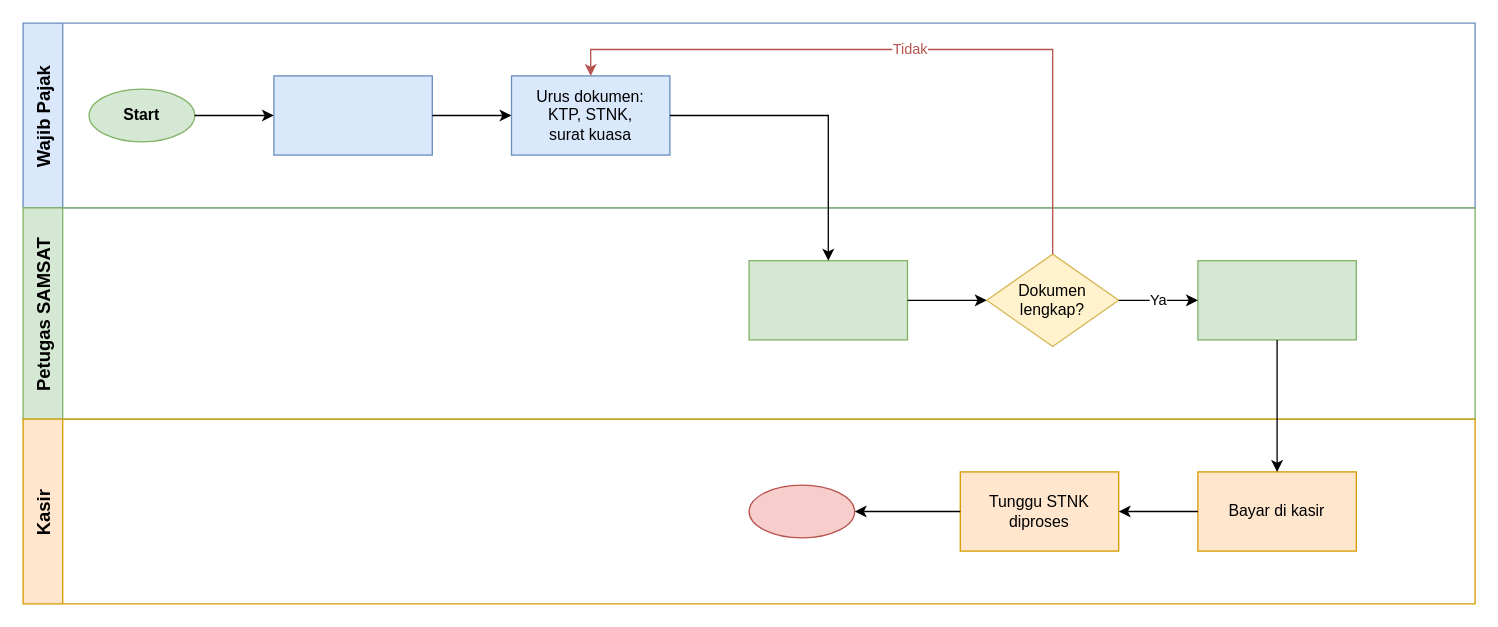
Image size: 1498x627. Some labels were removed from this diagram. Here are the shapes that lost their labels. From the top down, the centre of each, then its label:
At point 352,115: "Datang ke SAMSAT kota asal".
At point 828,299: "Antri di loket verifikasi".
At point 1276,299: "Petugas verifikasi manual".
At point 801,511: "Selesai".
